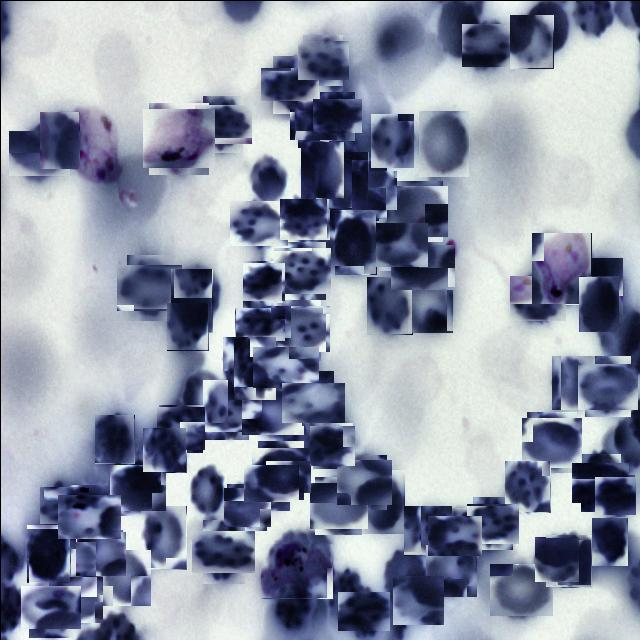red blood cell: (222, 336, 276, 400), (418, 110, 469, 177), (492, 560, 550, 618), (269, 300, 325, 356), (120, 259, 176, 315), (388, 182, 444, 238), (356, 469, 404, 533), (395, 239, 450, 294), (244, 384, 300, 438), (524, 414, 578, 469), (140, 504, 186, 568), (198, 382, 252, 436), (580, 358, 634, 412), (12, 126, 66, 180), (62, 488, 116, 542), (258, 340, 312, 394), (197, 524, 250, 578), (312, 478, 364, 532), (382, 547, 425, 612), (102, 549, 151, 606), (254, 443, 306, 496), (424, 544, 476, 597), (232, 196, 284, 248), (276, 244, 328, 296), (24, 581, 76, 633), (287, 376, 339, 428), (170, 268, 212, 332), (366, 276, 412, 334), (111, 461, 163, 512), (407, 274, 452, 332), (334, 212, 376, 274), (26, 524, 70, 582), (300, 140, 344, 198), (512, 272, 562, 323), (392, 574, 443, 624), (50, 574, 100, 624), (338, 456, 388, 506), (341, 165, 391, 215), (403, 504, 452, 554), (545, 534, 591, 587), (550, 355, 594, 410), (370, 113, 414, 168), (504, 460, 550, 512), (509, 14, 553, 68), (75, 530, 124, 578), (576, 458, 624, 507), (182, 370, 227, 422), (583, 256, 623, 314), (328, 150, 368, 208), (39, 111, 79, 169), (198, 100, 246, 148), (376, 220, 424, 268), (245, 151, 288, 204), (462, 21, 510, 68), (430, 511, 478, 558), (578, 274, 618, 330), (469, 499, 515, 546), (247, 459, 294, 505), (186, 462, 226, 516), (266, 61, 312, 107), (299, 36, 345, 82), (340, 588, 386, 634), (281, 196, 327, 242), (157, 404, 203, 450), (166, 302, 208, 350), (142, 427, 186, 472), (326, 567, 361, 623), (94, 414, 134, 463), (534, 536, 578, 580), (225, 484, 268, 528), (42, 483, 84, 526), (311, 424, 354, 466), (238, 302, 280, 344), (591, 517, 627, 565), (316, 95, 358, 136), (242, 261, 282, 301), (292, 103, 332, 143), (595, 474, 635, 514)
trophozoite: (145, 104, 211, 170), (531, 232, 591, 304), (69, 107, 121, 184), (260, 543, 332, 598)
